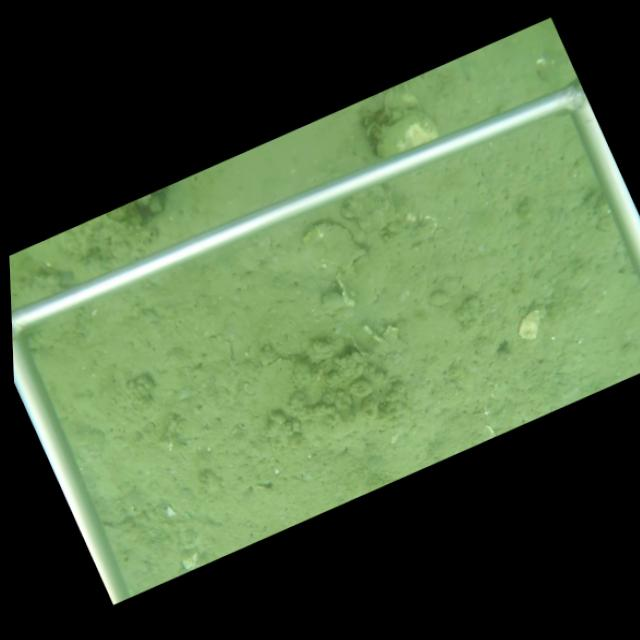Oyster-Closed: (373, 105, 442, 158)
Oyster-Indeterminate: (296, 218, 369, 274)
